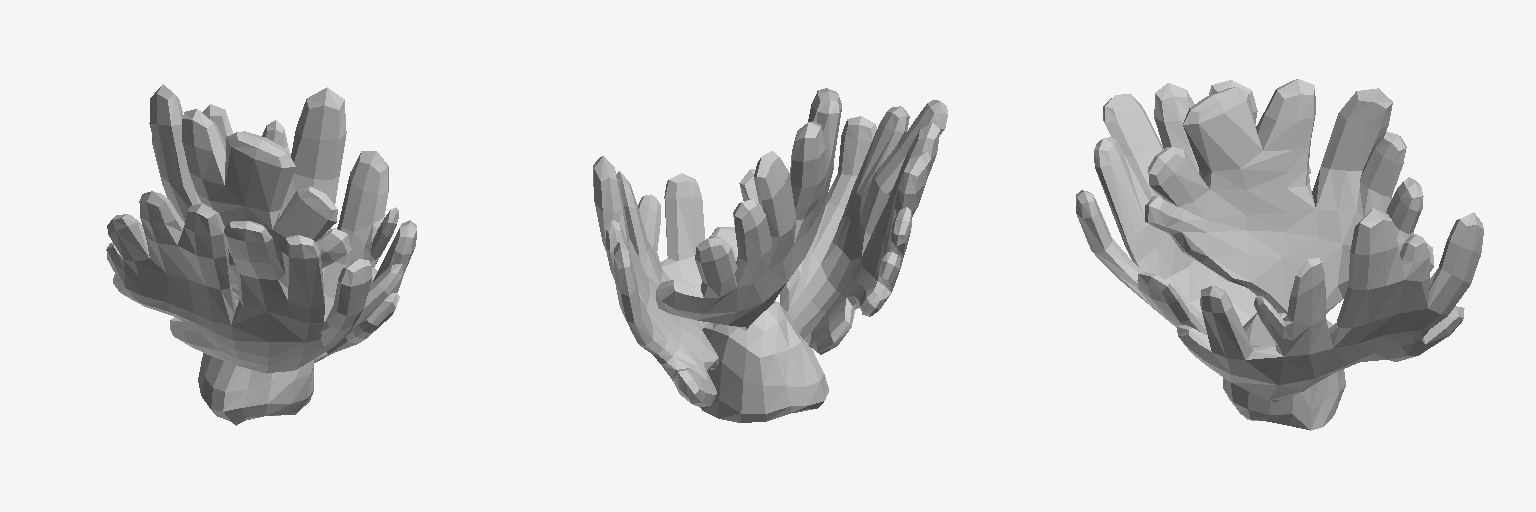
Rendered from Elkhorn_02_LOD1.obj.
3 views of the same model, side by side, from view 1: azimuth 30°, elevation 25°; view 2: azimuth 150°, elevation 25°; view 3: azimuth 270°, elevation 25° (orthographic).
Visible parts, largest first — view 1: Elkhorn_02_LOD1_Cube.536; view 2: Elkhorn_02_LOD1_Cube.536; view 3: Elkhorn_02_LOD1_Cube.536.
Boxes of the visible parts, x1,y1,x2,y2 form: Elkhorn_02_LOD1_Cube.536: [106, 84, 416, 425]; Elkhorn_02_LOD1_Cube.536: [593, 88, 947, 422]; Elkhorn_02_LOD1_Cube.536: [1076, 79, 1483, 430].
Bounding box in the file's own units: 8.3 × 8.49 × 10.27.